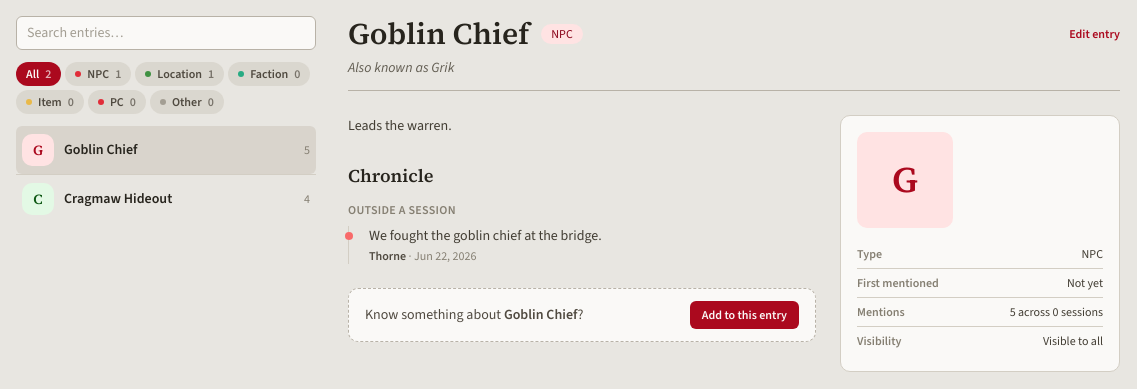
Test case: EntityDetailPage (#248) › pane rail (#842) › filters rail rows by search and type chips
Type "crag" into the search field named "search entities" at (166, 33), box [16,16,316,50]
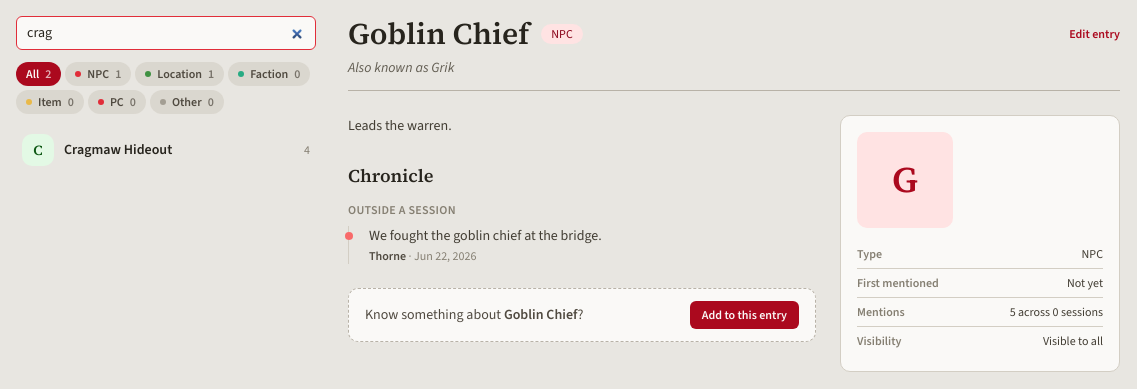
Expected: the link "C Cragmaw Hideout 4" is shown, [16,126,316,174]
Clear the search field named "search entities" at (166, 33), box [16,16,316,50]
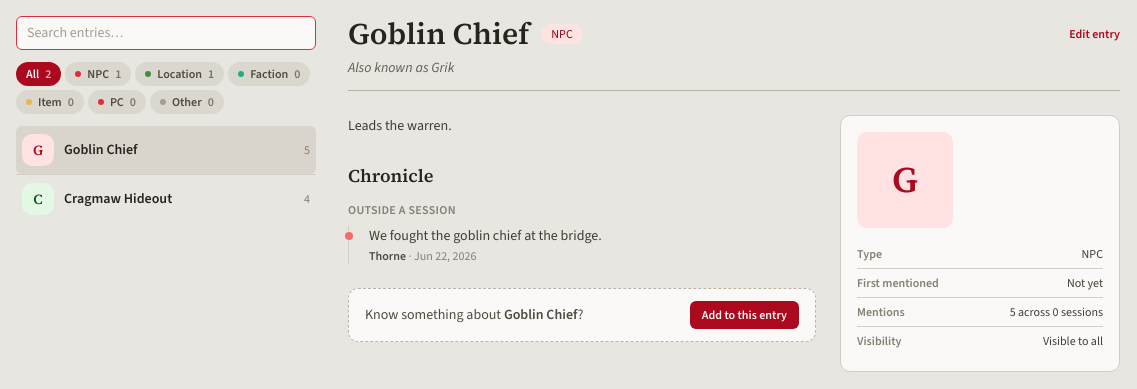
Click the button "NPC 1" at (98, 74), box [65,62,131,86]
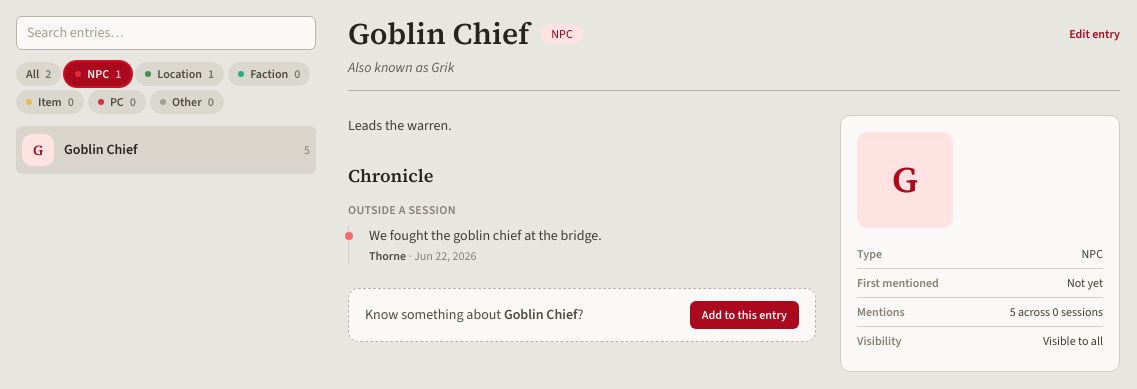
Expected: the link "G Goblin Chief 5" is shown, [16,126,316,174]
Expected: the link "Cragmaw Hideout" is gone
